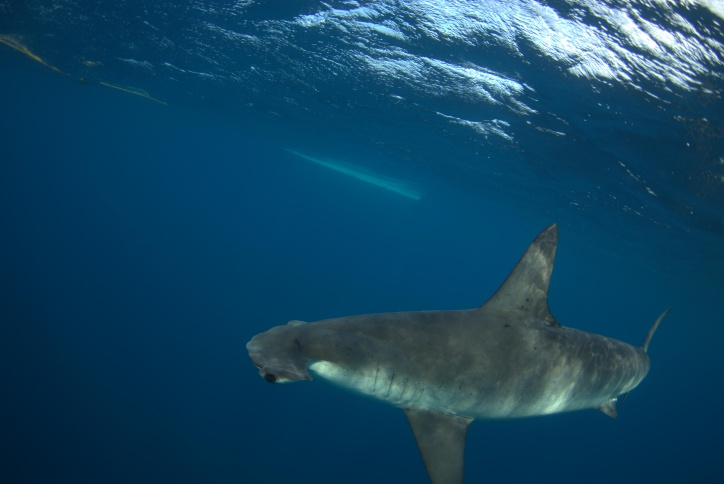Hammer: (213, 211, 697, 484)
